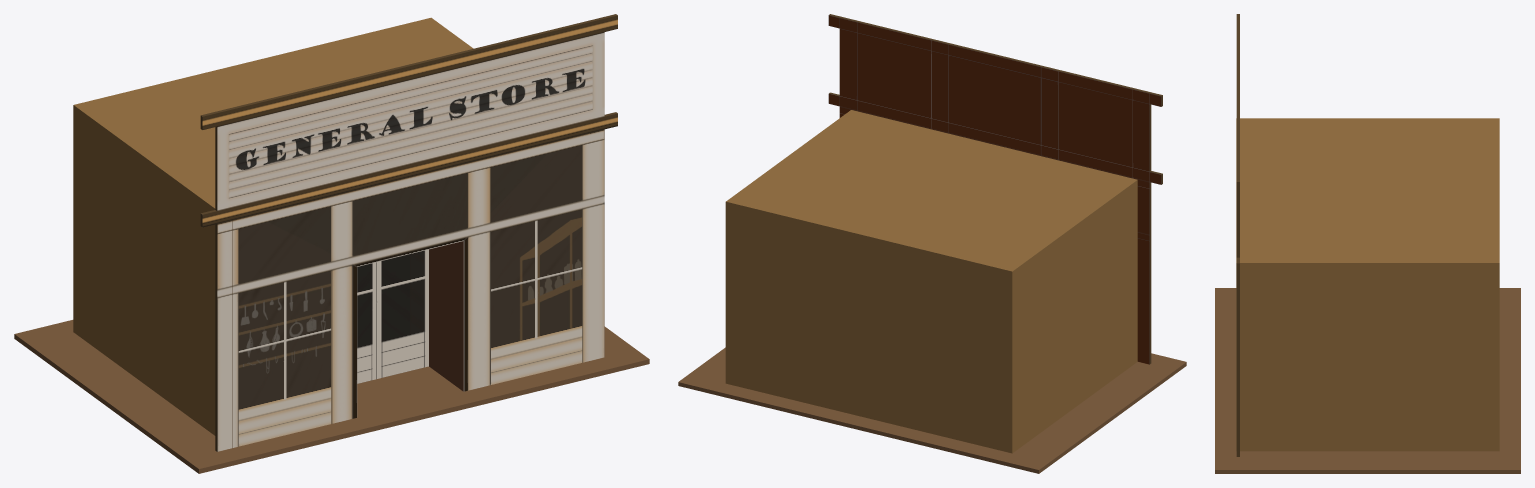
Rendered from GenStoreWBack_001.fbx.
3 views of the same model, side by side, from view 1: azimuth 30°, elevation 25°; view 2: azimuth 150°, elevation 25°; view 3: azimuth 270°, elevation 25° (orthographic). The views are drawn at different scales.
Visible parts, largest first — view 1: GeneralStoreMain, GeneralStoreBack, GeneralStoreBase; view 2: GeneralStoreBack, GeneralStoreMain, GeneralStoreBase; view 3: GeneralStoreBack, GeneralStoreBase, GeneralStoreMain.
Boxes of the visible parts, <box> form: GeneralStoreMain: <box>200,14,617,451</box>; GeneralStoreBack: <box>73,17,589,447</box>; GeneralStoreBase: <box>14,320,649,473</box>; GeneralStoreBack: <box>725,110,1137,453</box>; GeneralStoreMain: <box>828,14,1162,364</box>; GeneralStoreBase: <box>678,347,1186,473</box>; GeneralStoreBack: <box>1236,118,1499,451</box>; GeneralStoreBase: <box>1215,288,1520,473</box>; GeneralStoreMain: <box>1236,14,1239,456</box>.
Size of the model in its own units: 39.26 by 28.6 by 27.86.
Materials: 5 (1 with a texture image).
